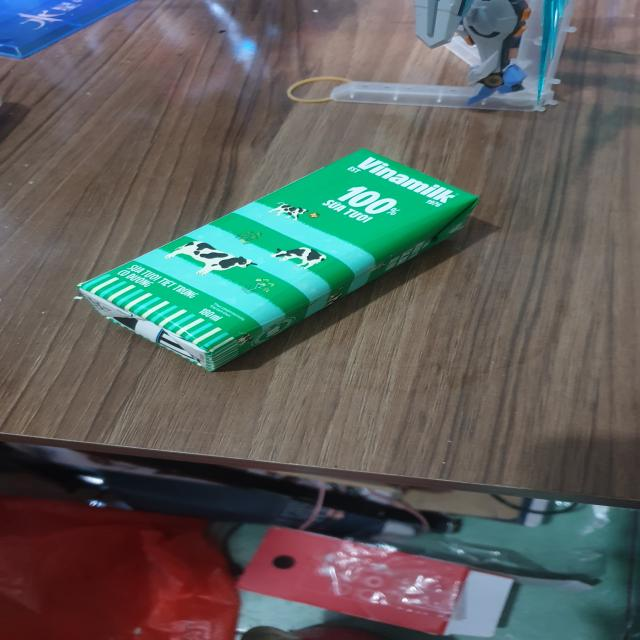Vina: (77, 147, 488, 378)
